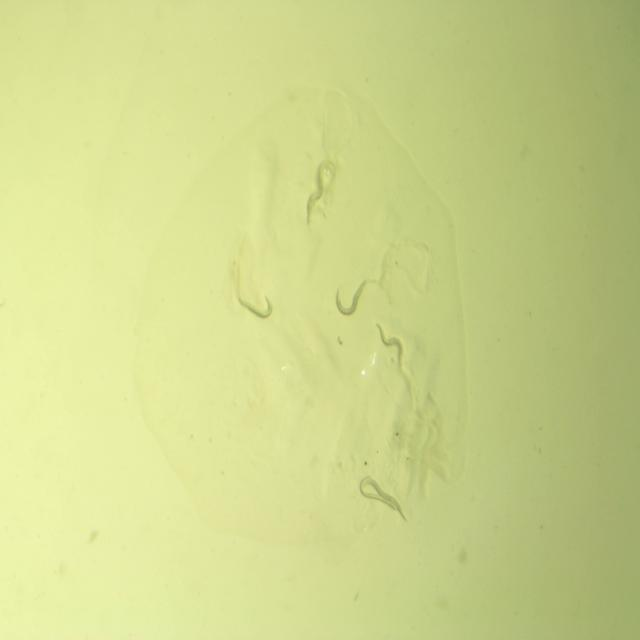worm: (234, 281, 286, 340), (316, 272, 373, 321), (358, 478, 413, 528), (295, 159, 332, 230), (372, 310, 406, 372), (355, 473, 399, 514)
